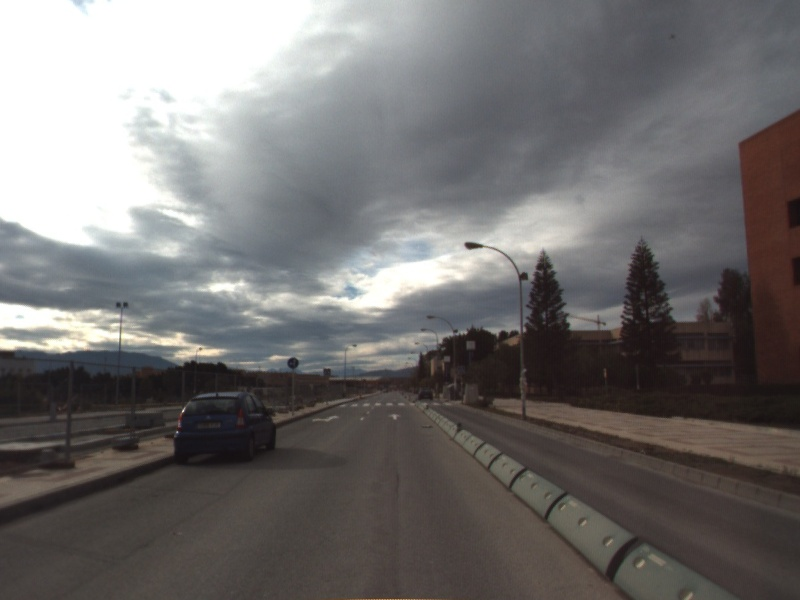STRAIGHT: (386, 411, 403, 422)
STRAIGHT_LEFT: (310, 413, 342, 424)
